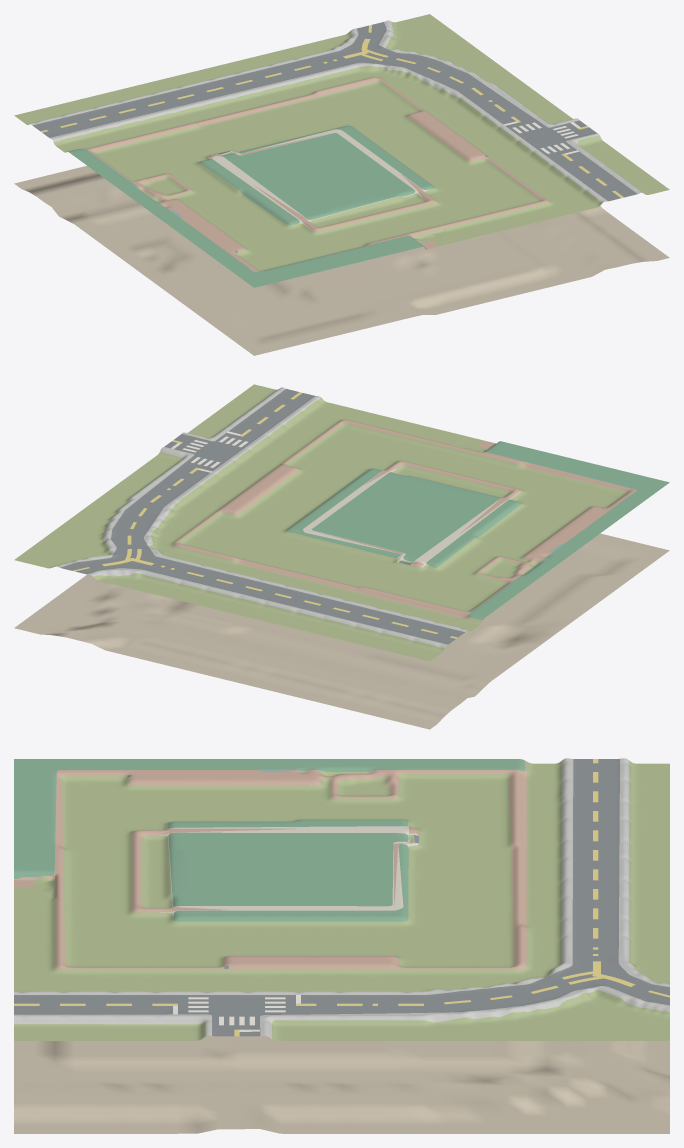
The picture shows the model from 3 angles, top to bottom: view 1: azimuth 30°, elevation 25°; view 2: azimuth 150°, elevation 25°; view 3: azimuth 270°, elevation 25°; orthographic projection. The views are drawn at different scales.
Visible parts, largest first — view 1: s_-11_-2__grass, s_-11_-2__soil, s_-11_-2__green_court, s_-11_-2__asphalt, s_-11_-2__brick_paving, s_-11_-2__stone_paving, s_-11_-2__paving, s_-11_-2__yellow_marking; view 2: s_-11_-2__grass, s_-11_-2__soil, s_-11_-2__green_court, s_-11_-2__asphalt, s_-11_-2__brick_paving, s_-11_-2__stone_paving, s_-11_-2__paving, s_-11_-2__yellow_marking; view 3: s_-11_-2__grass, s_-11_-2__soil, s_-11_-2__green_court, s_-11_-2__asphalt, s_-11_-2__brick_paving, s_-11_-2__stone_paving, s_-11_-2__paving, s_-11_-2__yellow_marking, s_-11_-2__white_marking.
Boxes of the visible parts, x1,y1,x2,y2 form: s_-11_-2__grass: (14,14,669,270); s_-11_-2__soil: (14,152,669,355); s_-11_-2__green_court: (68,125,434,287); s_-11_-2__asphalt: (32,22,637,252); s_-11_-2__brick_paving: (86,77,550,271); s_-11_-2__stone_paving: (30,20,644,202); s_-11_-2__paving: (208,129,429,271); s_-11_-2__yellow_marking: (40,25,623,198); s_-11_-2__grass: (14,384,629,661); s_-11_-2__soil: (14,533,669,729); s_-11_-2__green_court: (286,441,669,620); s_-11_-2__asphalt: (60,388,603,644); s_-11_-2__brick_paving: (173,419,636,621); s_-11_-2__stone_paving: (56,387,467,647); s_-11_-2__paving: (303,468,635,567); s_-11_-2__yellow_marking: (72,392,457,638); s_-11_-2__grass: (14,760,669,1040); s_-11_-2__soil: (14,1014,669,1133); s_-11_-2__green_court: (14,759,525,921); s_-11_-2__asphalt: (14,758,669,1036); s_-11_-2__brick_paving: (14,760,526,969); s_-11_-2__stone_paving: (14,758,669,1038); s_-11_-2__paving: (160,825,418,916); s_-11_-2__yellow_marking: (14,759,669,1036); s_-11_-2__white_marking: (173,995,300,1031).
Size of the model in its own units: 128 by 21.35 by 128.
